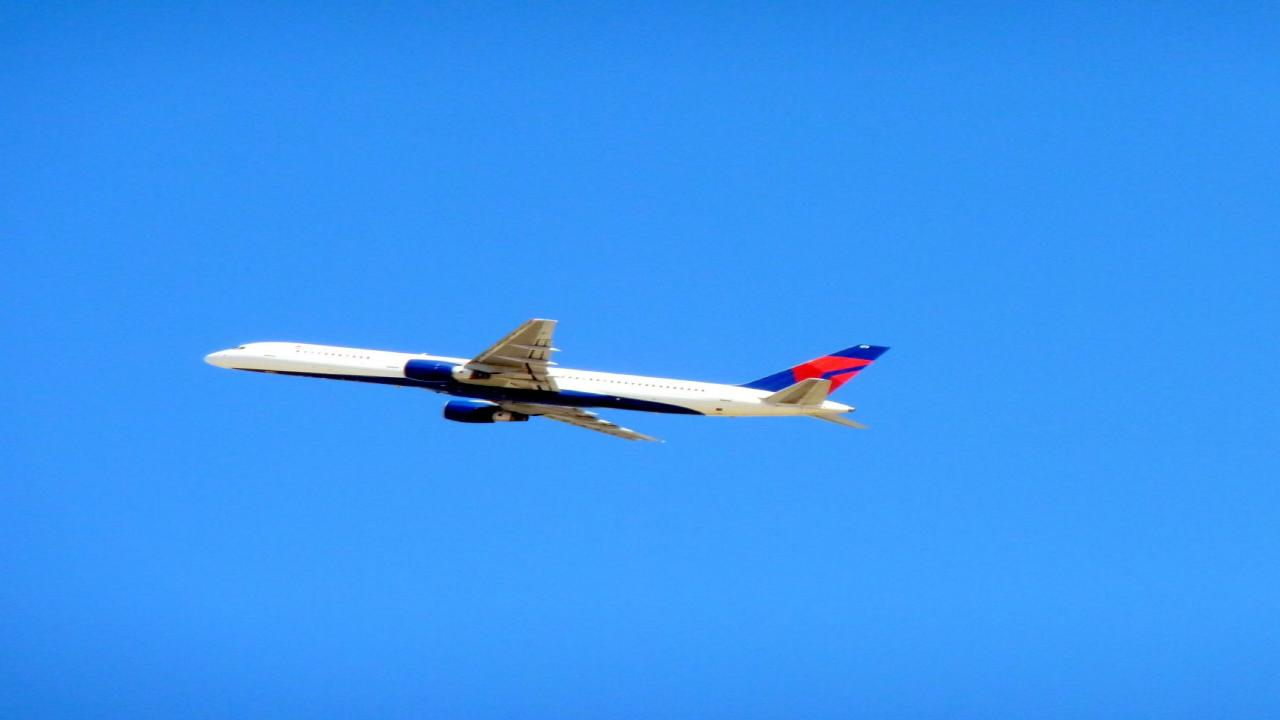Airplane: (175, 307, 913, 454)
